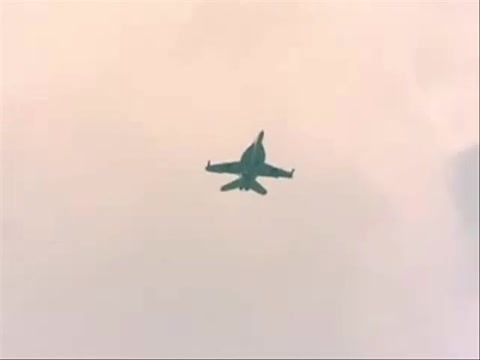aeroplane: (207, 129, 297, 197)
